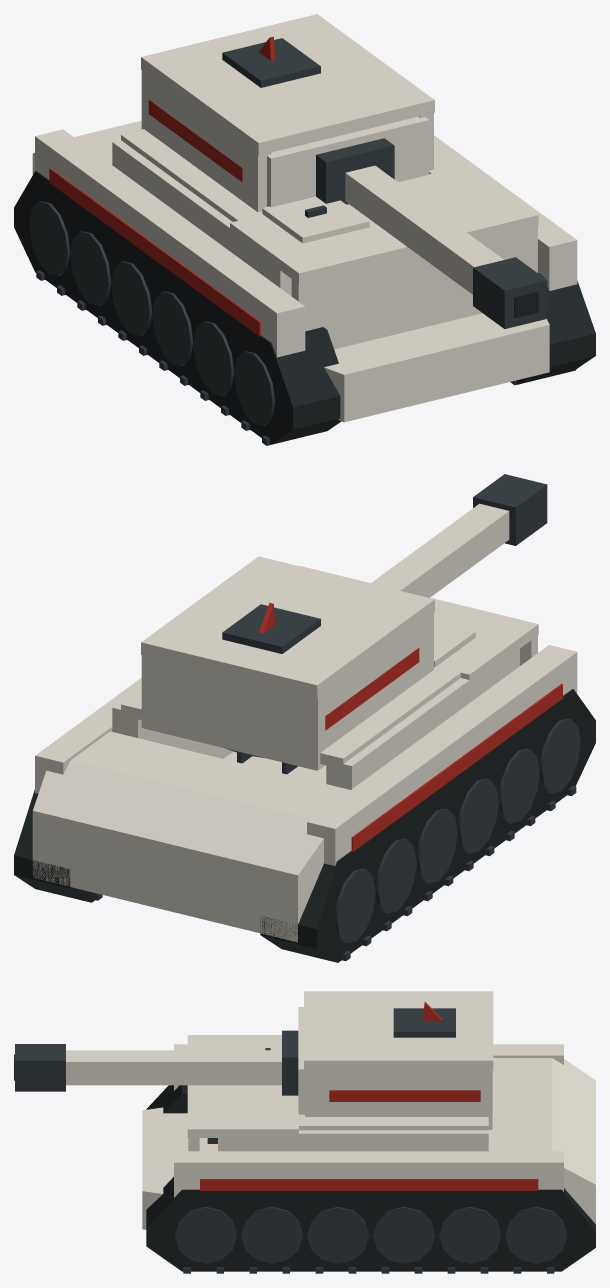
3 views of the same model, one above another, from view 1: azimuth 30°, elevation 25°; view 2: azimuth 150°, elevation 25°; view 3: azimuth 270°, elevation 25° (orthographic). The views are drawn at different scales.
Visible parts, largest first — view 1: tank-fleet-armor, turret-fleet-armor, tank-fleet-rubber, tank-fleet-machine, barrel-fleet-armor, barrel-fleet-machine, tank-fleet-red, turret-fleet-machine, turret-fleet-red; view 2: tank-fleet-armor, turret-fleet-armor, tank-fleet-rubber, tank-fleet-machine, barrel-fleet-armor, tank-fleet-red, barrel-fleet-machine, turret-fleet-machine, turret-fleet-red; view 3: tank-fleet-armor, turret-fleet-armor, tank-fleet-rubber, tank-fleet-machine, barrel-fleet-armor, tank-fleet-red, barrel-fleet-machine, turret-fleet-red, turret-fleet-machine.
Part boxes in pixels (<box>): tank-fleet-armor: <box>32,120,577,422</box>; turret-fleet-armor: <box>141,14,434,212</box>; tank-fleet-rubber: <box>14,171,595,444</box>; tank-fleet-machine: <box>29,201,576,445</box>; barrel-fleet-armor: <box>345,165,503,294</box>; barrel-fleet-machine: <box>316,138,547,328</box>; tank-fleet-red: <box>49,168,260,336</box>; turret-fleet-machine: <box>222,38,320,87</box>; turret-fleet-red: <box>148,36,275,182</box>; tank-fleet-armor: <box>32,565,577,942</box>; turret-fleet-armor: <box>141,556,434,770</box>; tank-fleet-rubber: <box>14,689,595,962</box>; tank-fleet-machine: <box>95,718,580,961</box>; barrel-fleet-armor: <box>370,503,509,597</box>; tank-fleet-red: <box>351,683,562,851</box>; barrel-fleet-machine: <box>473,474,547,545</box>; turret-fleet-machine: <box>222,604,320,653</box>; turret-fleet-red: <box>258,602,419,730</box>; tank-fleet-armor: <box>142,1035,595,1229</box>; turret-fleet-armor: <box>298,991,493,1129</box>; tank-fleet-rubber: <box>146,1085,595,1271</box>; tank-fleet-machine: <box>175,1048,567,1273</box>; barrel-fleet-armor: <box>66,1050,281,1085</box>; tank-fleet-red: <box>200,1179,538,1190</box>; barrel-fleet-machine: <box>15,1030,298,1095</box>; turret-fleet-red: <box>329,1002,480,1101</box>; turret-fleet-machine: <box>393,1008,455,1037</box>.
Size of the model in its own units: 21.11 by 17.02 by 42.63.
